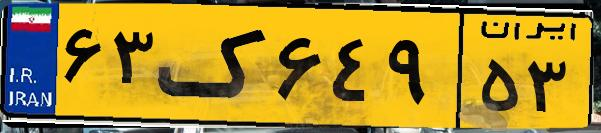3: (525, 38, 570, 115), (110, 28, 158, 98)
4: (330, 28, 385, 110)
5: (475, 38, 525, 113)
6: (270, 28, 330, 110), (57, 26, 110, 100)
9: (385, 28, 445, 110)
ک: (158, 12, 270, 120)
